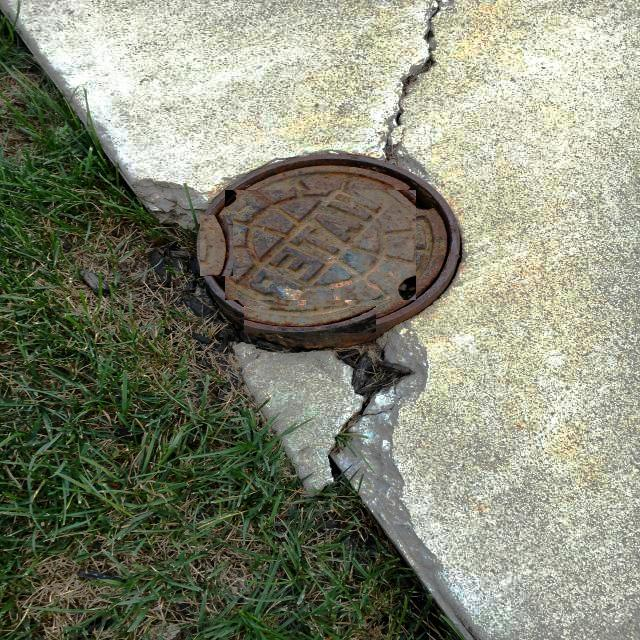Corrosion: (198, 155, 461, 349)
